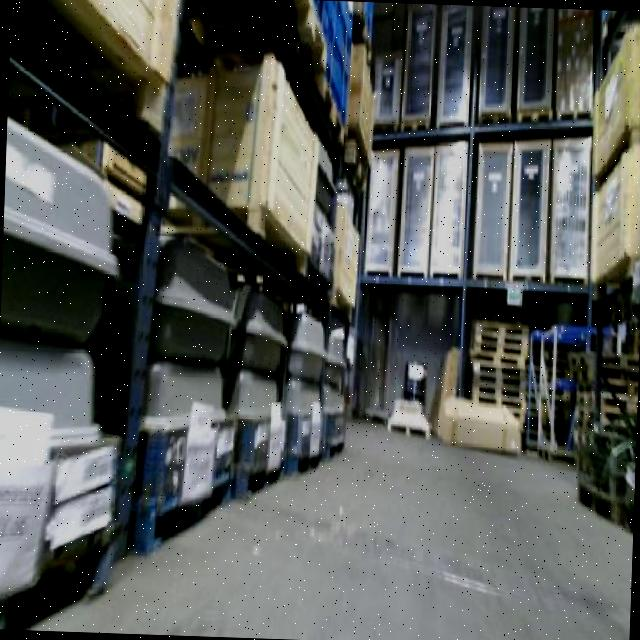pallet: (383, 416, 438, 446), (512, 102, 558, 131), (398, 115, 438, 138)
